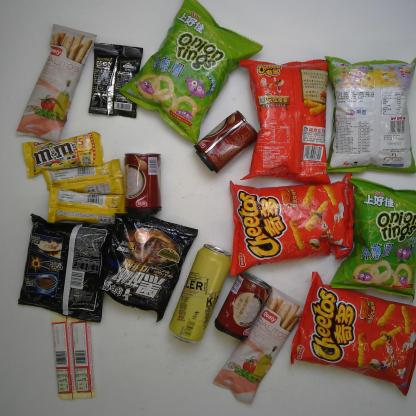Alcohol: (166, 240, 240, 347)
Canned Food: (213, 267, 274, 343), (191, 108, 260, 175), (121, 150, 164, 216)
Chocolate: (20, 130, 107, 179), (45, 186, 132, 228), (41, 156, 126, 198), (48, 312, 80, 402), (66, 313, 98, 399)
Dessert: (210, 281, 308, 408), (13, 20, 99, 148)
Instant Drink: (86, 37, 145, 122)
Instant Noodles: (16, 208, 121, 328), (98, 209, 200, 324)
Puffed Food: (116, 4, 265, 148), (286, 269, 416, 401), (222, 168, 361, 280), (230, 54, 334, 190), (319, 53, 416, 177), (327, 173, 416, 305)
